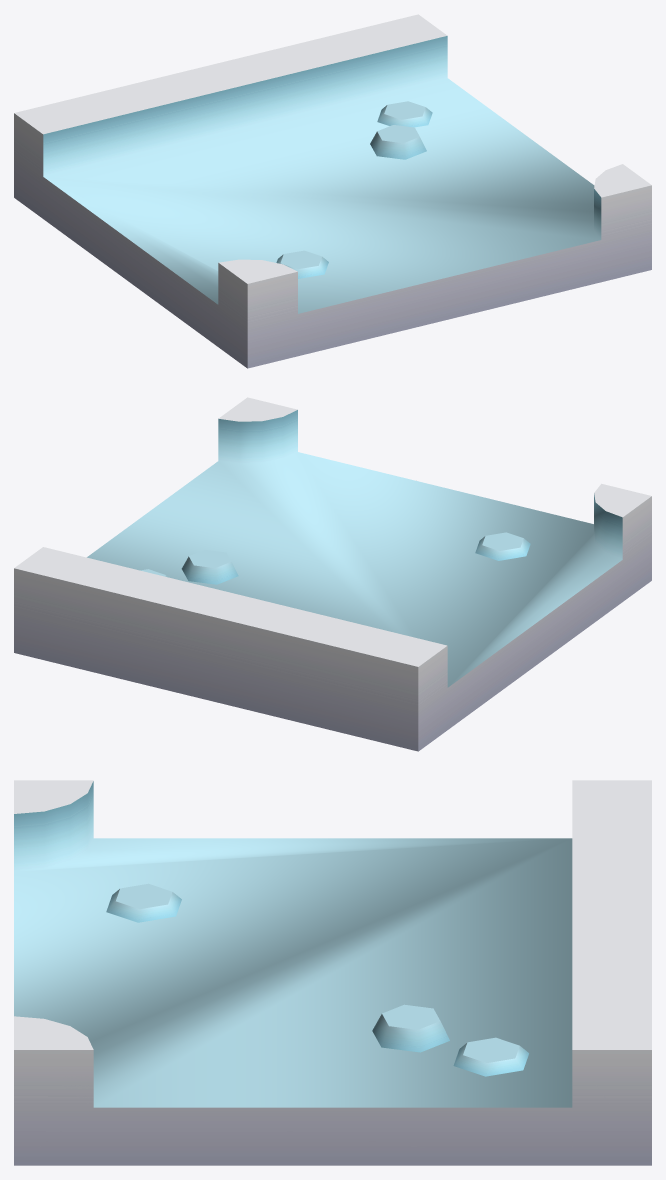
The model's file is snow-tile-split.glb.
3 views of the same model, one above another, from view 1: azimuth 30°, elevation 25°; view 2: azimuth 150°, elevation 25°; view 3: azimuth 270°, elevation 25° (orthographic). The views are drawn at different scales.
Parts seen in each view (by area): view 1: snow-tile-split; view 2: snow-tile-split; view 3: snow-tile-split.
Part boxes in pixels (x1,y1,x2,y2): snow-tile-split: (14, 14, 651, 368); snow-tile-split: (14, 397, 651, 751); snow-tile-split: (14, 780, 651, 1165).
Bounding box in the file's own units: 1 × 0.2 × 1.
1 material, 1 textured.
